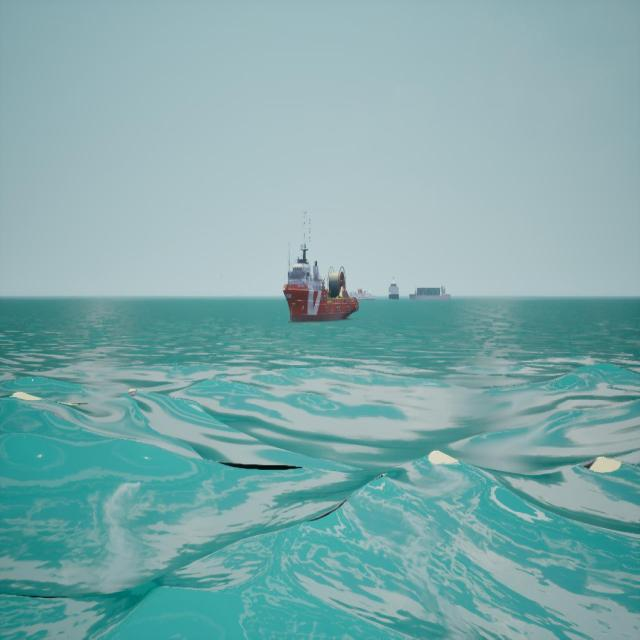tug boat: (283, 212, 363, 326), (410, 285, 451, 302)
